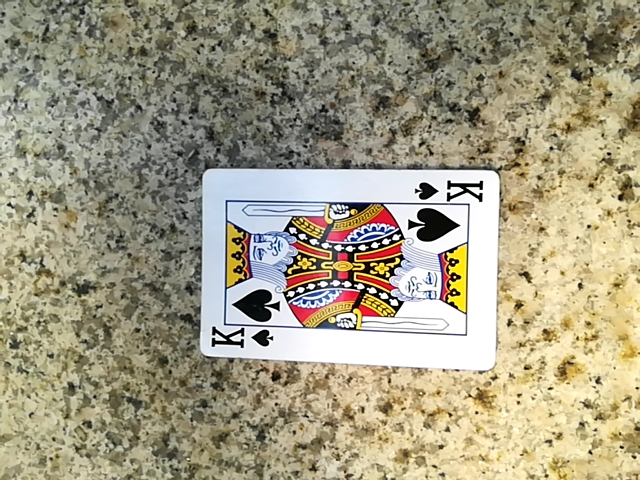ht k: (185, 165, 496, 371)
